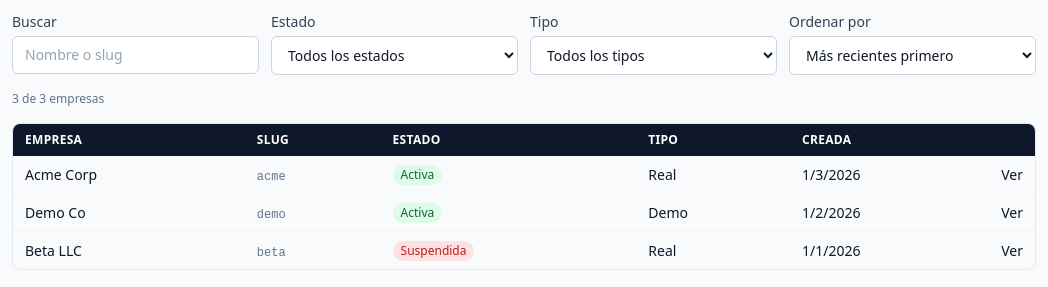
Scenario: PlatformTenantsTable › filters by status (real filter → no-results state is distinct from empty)
Select "Suspendida" in the dropdown labelled "Estado": (394, 56) top-left (271, 36), bottom-right (518, 75)
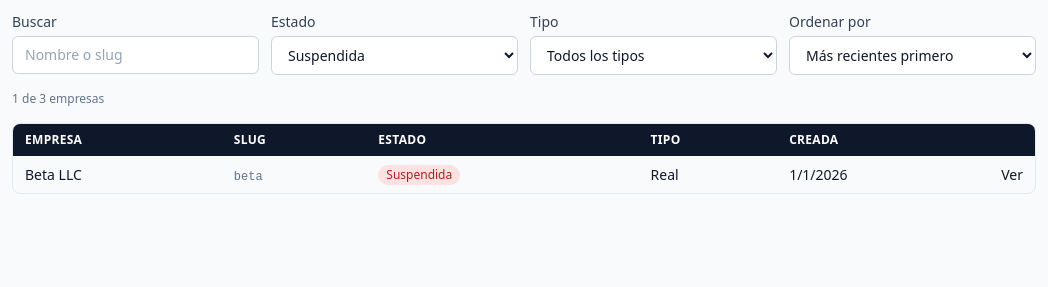
Check: the text "Beta LLC" is shown, box top-left (13, 156), bottom-right (222, 193)
Select "Archivada" in the dropdown labelled "Estado": (394, 56) top-left (271, 36), bottom-right (518, 75)
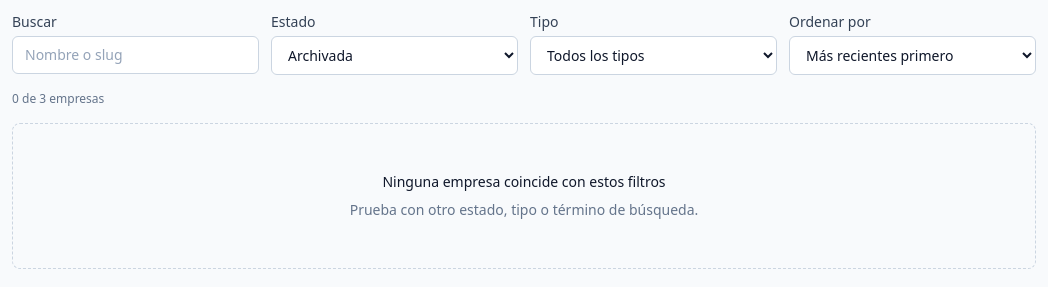
Check: the text "Ninguna empresa coincide con estos filtros" is shown, box top-left (382, 172), bottom-right (666, 192)
